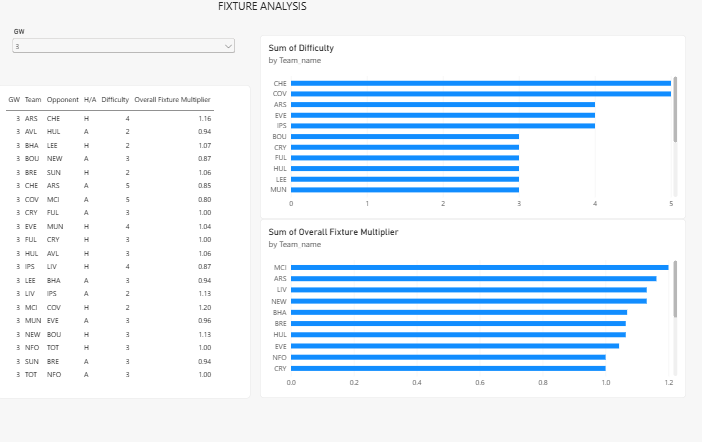

Layout of this report page (visuals, bound fields, positions):
{"tool":"powerbi","page":{"name":"Fixture Analysis","canvas":[1920,1080],"ordinal":1},"visuals":[{"type":"slicer","fields":{"Values":["TEAM_FIXTURES.GW"]},"box":[35,80,455,100],"z":0},{"type":"tableEx","fields":{"Values":["TEAM_FIXTURES.GW","TEAM_FIXTURES.Team_name","TEAM_FIXTURES.Opponent_name","TEAM_FIXTURES.H/A","TEAM_FIXTURES.Difficulty","TEAM_FIXTURES.Overall Fixture Multiplier"]},"box":[10,196.7,506.7,626.7],"z":1000},{"type":"clusteredBarChart","fields":{"Category":["TEAM_FIXTURES.Team_name"],"Y":["Sum(TEAM_FIXTURES.Difficulty)"]},"box":[536,96,852,368],"z":2000},{"type":"clusteredBarChart","fields":{"Category":["TEAM_FIXTURES.Team_name"],"Y":["Sum(TEAM_FIXTURES.Overall Fixture Multiplier)"]},"box":[536,464,852,358],"z":3000},{"type":"textbox","box":[451.7,21.7,213.3,46.7],"z":4000}]}

Visuals, with their boxes on the page's 1920x1080 design canvas (x1, y1, x2, y2). These are canvas units, not pixel positions in the 702x442 screenshot, which may show the page scaled, cropped or inside an application window:
slicer - TEAM_FIXTURES.GW: rect(35, 80, 490, 180)
tableEx - TEAM_FIXTURES.GW x TEAM_FIXTURES.Team_name: rect(10, 197, 517, 823)
clusteredBarChart - TEAM_FIXTURES.Team_name x Sum(TEAM_FIXTURES.Difficulty): rect(536, 96, 1388, 464)
clusteredBarChart - TEAM_FIXTURES.Team_name x Sum(TEAM_FIXTURES.Overall Fixture Multiplier): rect(536, 464, 1388, 822)
textbox: rect(452, 22, 665, 68)
